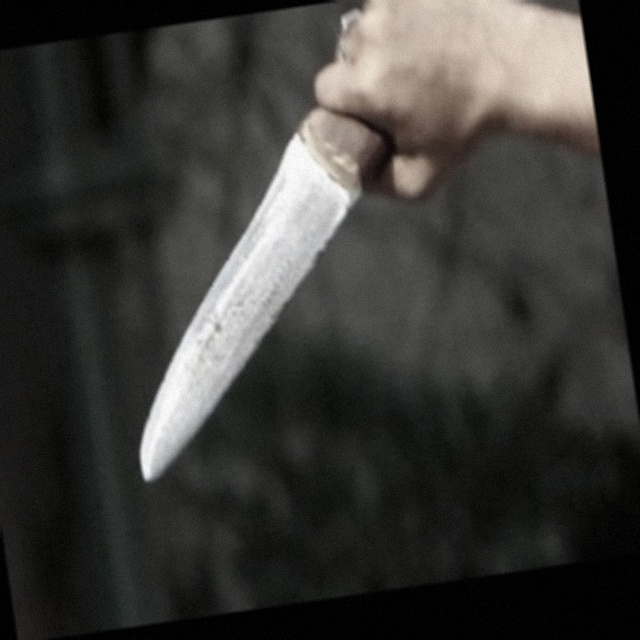Sharp-Object: (91, 94, 439, 486)
